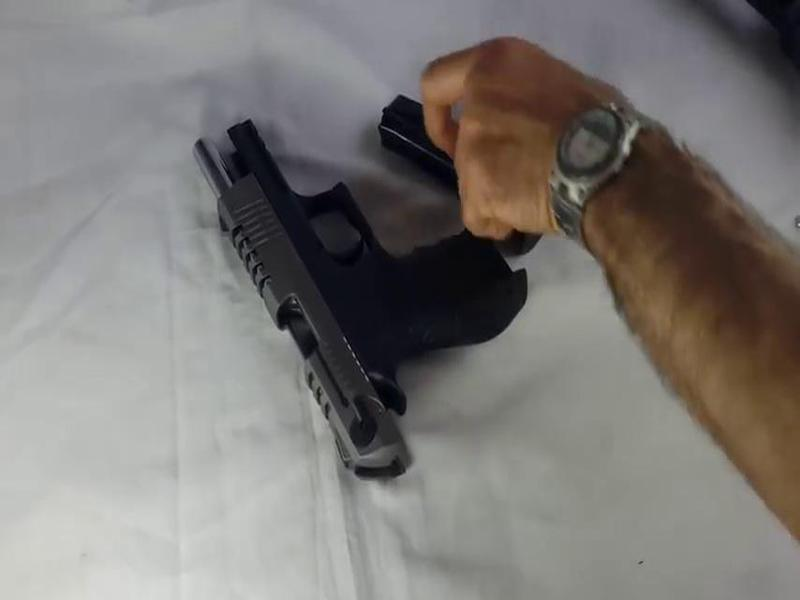Pistola: (188, 112, 541, 491)
